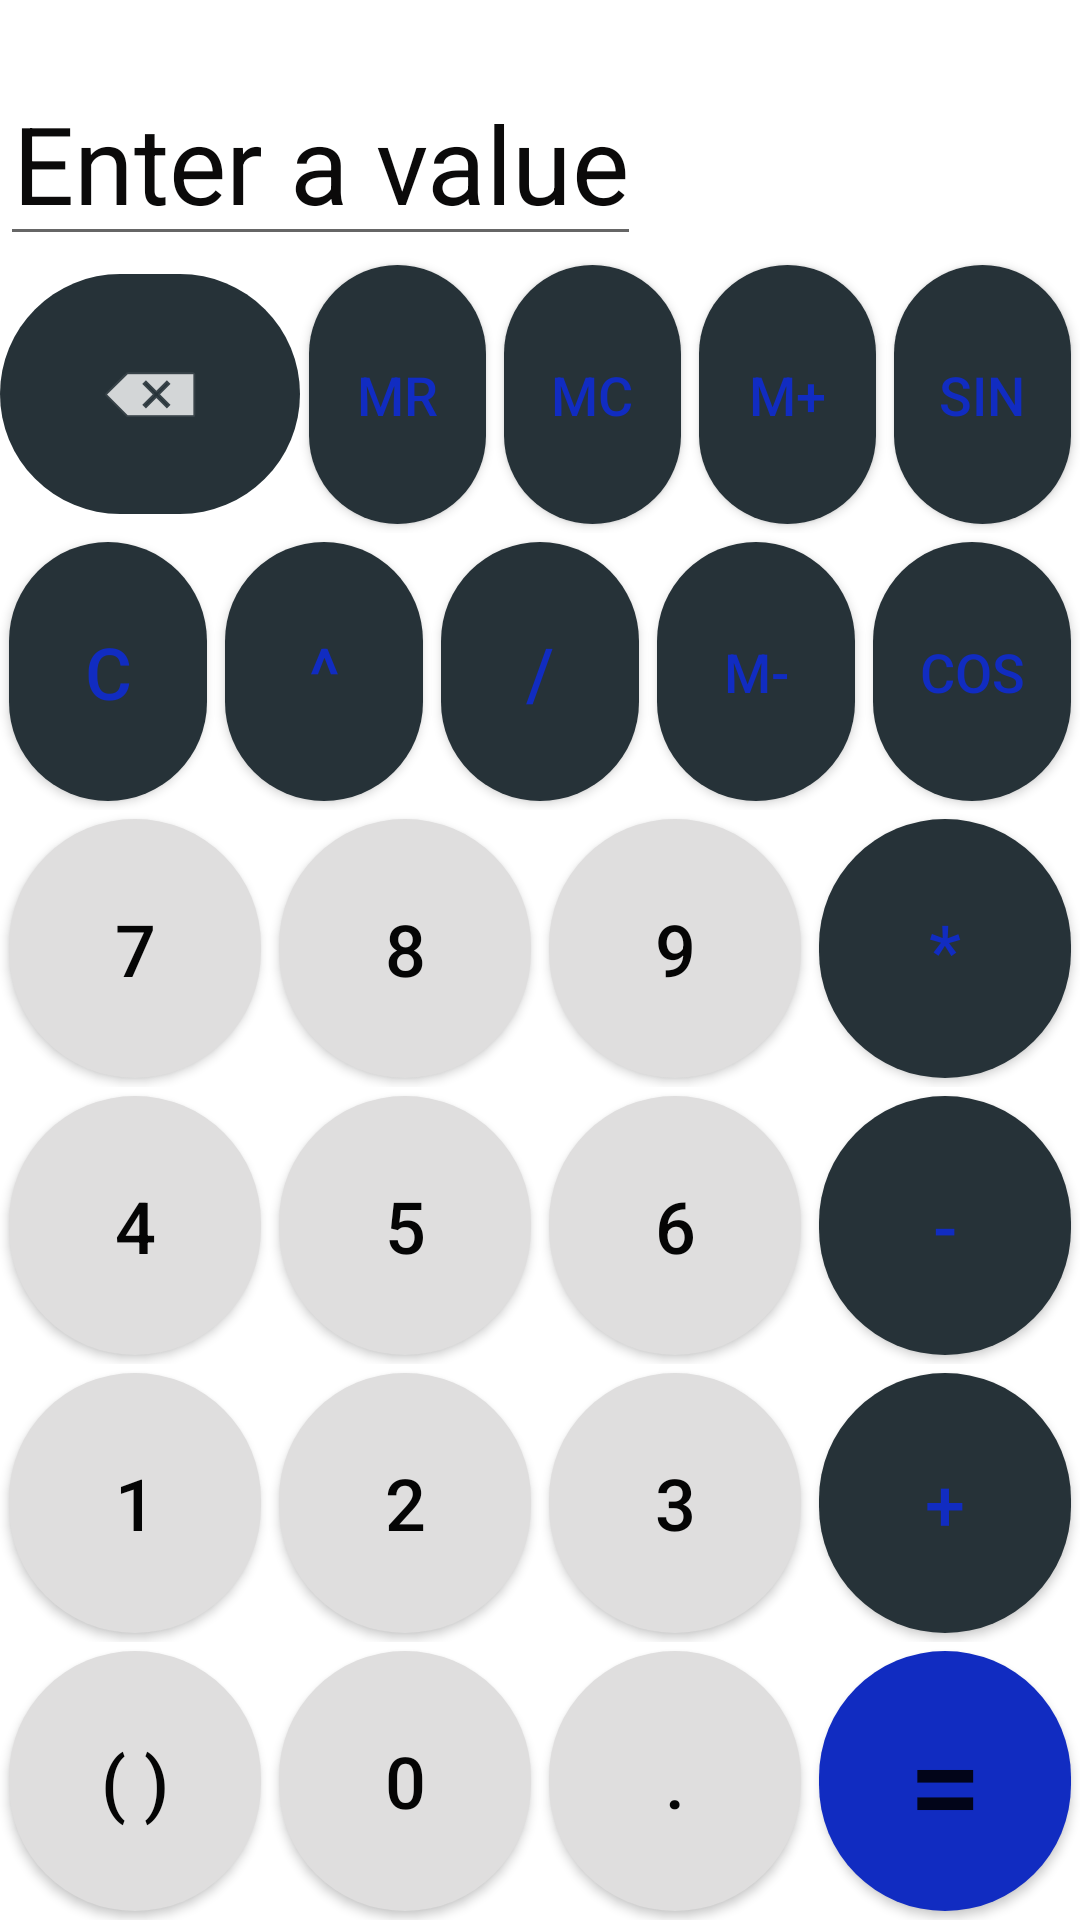

Screen size 1080w x 1920h. Icon name, then its box in pixels as BBox(x1, y1, x2, y2):
backspa: BBox(0, 274, 300, 514)
